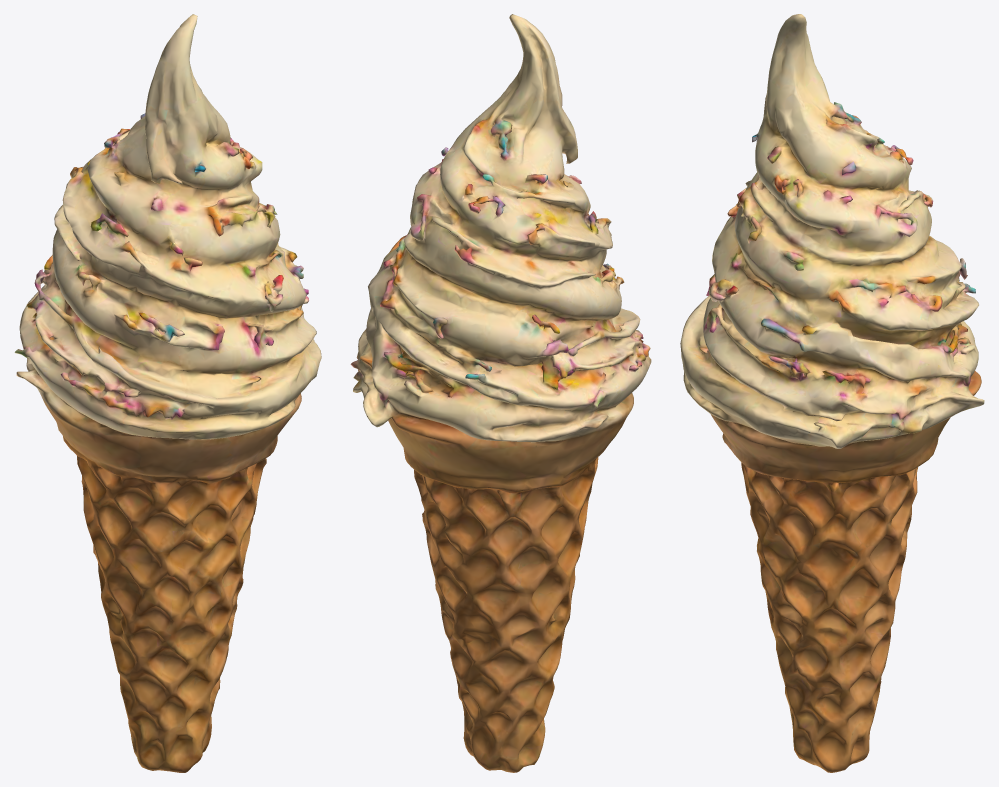
3 renders of one model, left to right at view 1: azimuth 30°, elevation 25°; view 2: azimuth 150°, elevation 25°; view 3: azimuth 270°, elevation 25°, orthographic. The views are drawn at different scales.
Bounding box in the file's own units: 0.7561 × 1.99 × 0.7329.
Materials: 1 (1 with a texture image).
